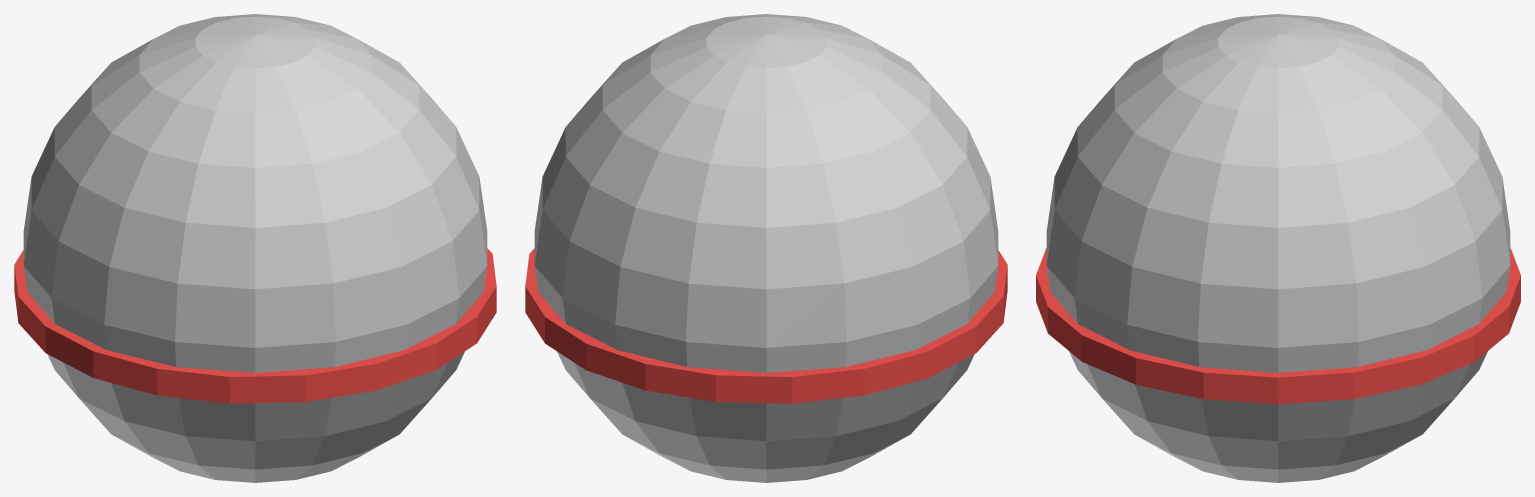
Rendered from vge_e_gravjumper_orb.obj.
3 views of the same model, side by side, from view 1: azimuth 30°, elevation 25°; view 2: azimuth 150°, elevation 25°; view 3: azimuth 270°, elevation 25° (orthographic).
Visible parts, largest first — view 1: vge_gravjumper_orb_0, vge_gravjumper_orb_1; view 2: vge_gravjumper_orb_0, vge_gravjumper_orb_1; view 3: vge_gravjumper_orb_0, vge_gravjumper_orb_1.
Part boxes in pixels (x1,y1,x2,y2): vge_gravjumper_orb_0: (23, 14, 487, 482); vge_gravjumper_orb_1: (14, 248, 496, 403); vge_gravjumper_orb_0: (534, 14, 998, 482); vge_gravjumper_orb_1: (525, 248, 1007, 403); vge_gravjumper_orb_0: (1046, 14, 1510, 482); vge_gravjumper_orb_1: (1036, 247, 1520, 404).
Bounding box in the file's own units: 0.824 × 0.8 × 0.824.
